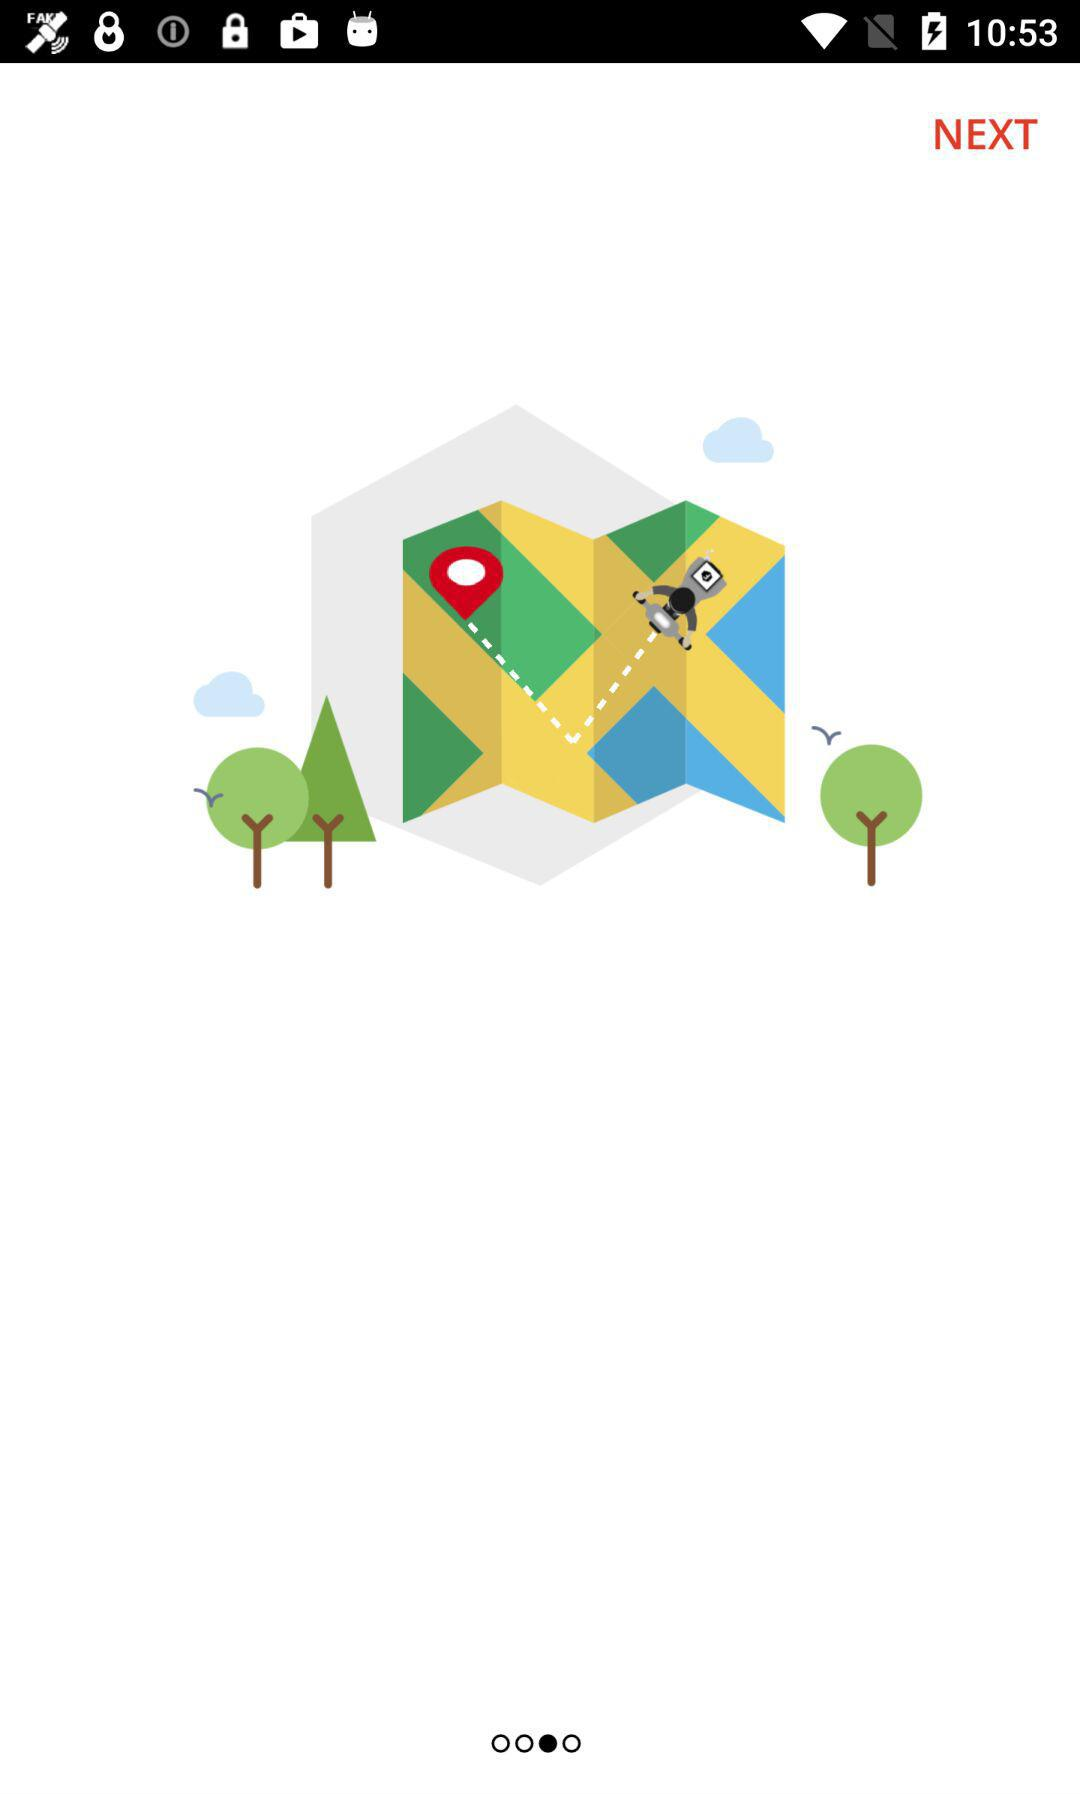Image: (193, 402, 924, 891)
PageIndicator: (491, 1732, 582, 1754)
Text: (935, 119, 1039, 151)
UpperTaskBar: (1, 1, 1080, 64)
